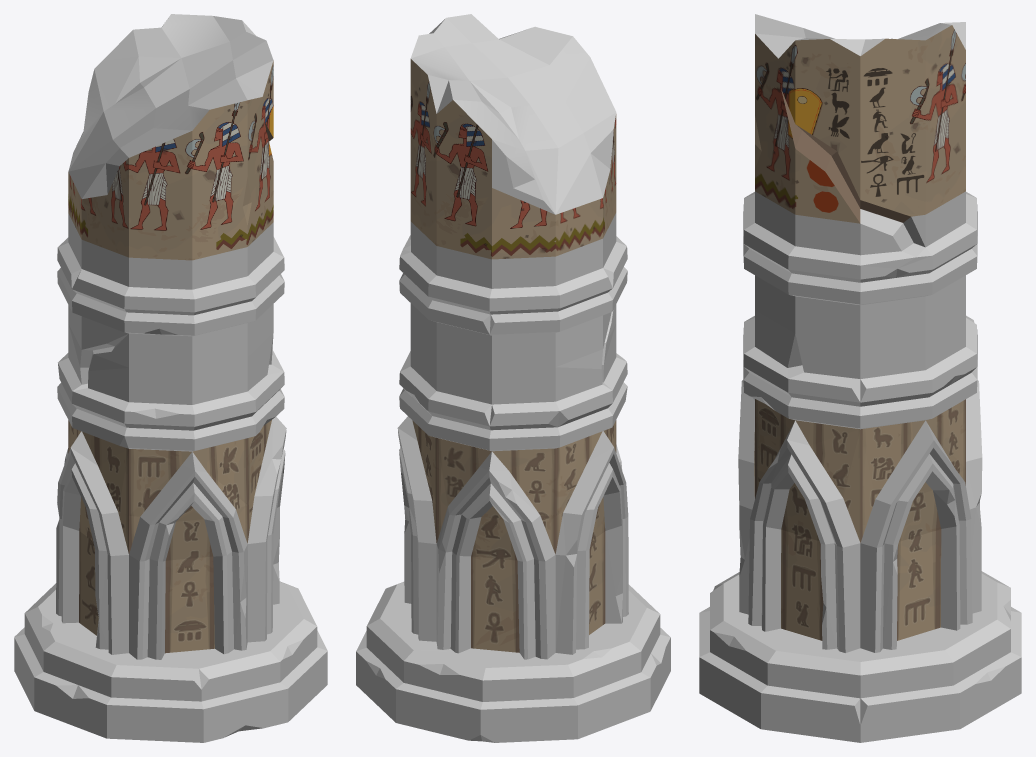
File: SM_Bld_Pillar_Ornate_Large_Damaged_01.fbx
The picture shows the model from 3 angles, left to right: view 1: azimuth 30°, elevation 25°; view 2: azimuth 150°, elevation 25°; view 3: azimuth 270°, elevation 25°; orthographic projection. The views are drawn at different scales.
Visible parts, largest first — view 1: SM_Bld_Pillar_Ornate_Large_Damaged_01; view 2: SM_Bld_Pillar_Ornate_Large_Damaged_01; view 3: SM_Bld_Pillar_Ornate_Large_Damaged_01.
Part boxes in pixels (box(x1,y1,x2,y2)): SM_Bld_Pillar_Ornate_Large_Damaged_01: box(14, 14, 327, 742); SM_Bld_Pillar_Ornate_Large_Damaged_01: box(356, 14, 670, 742); SM_Bld_Pillar_Ornate_Large_Damaged_01: box(699, 14, 1021, 742).
Size of the model in its own units: 252 by 558 by 240.
